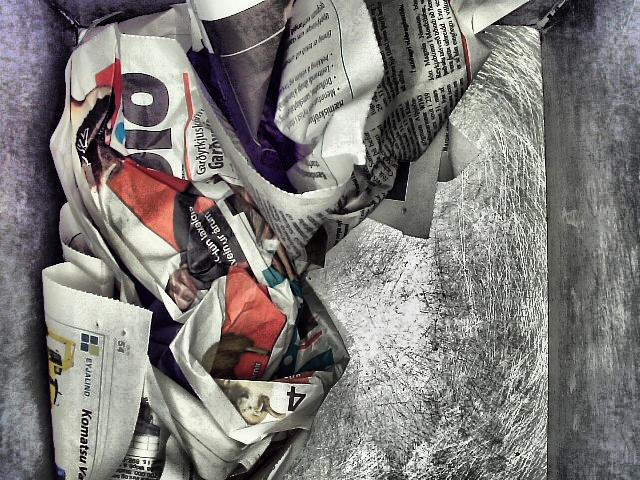Paper: (35, 0, 579, 480)
